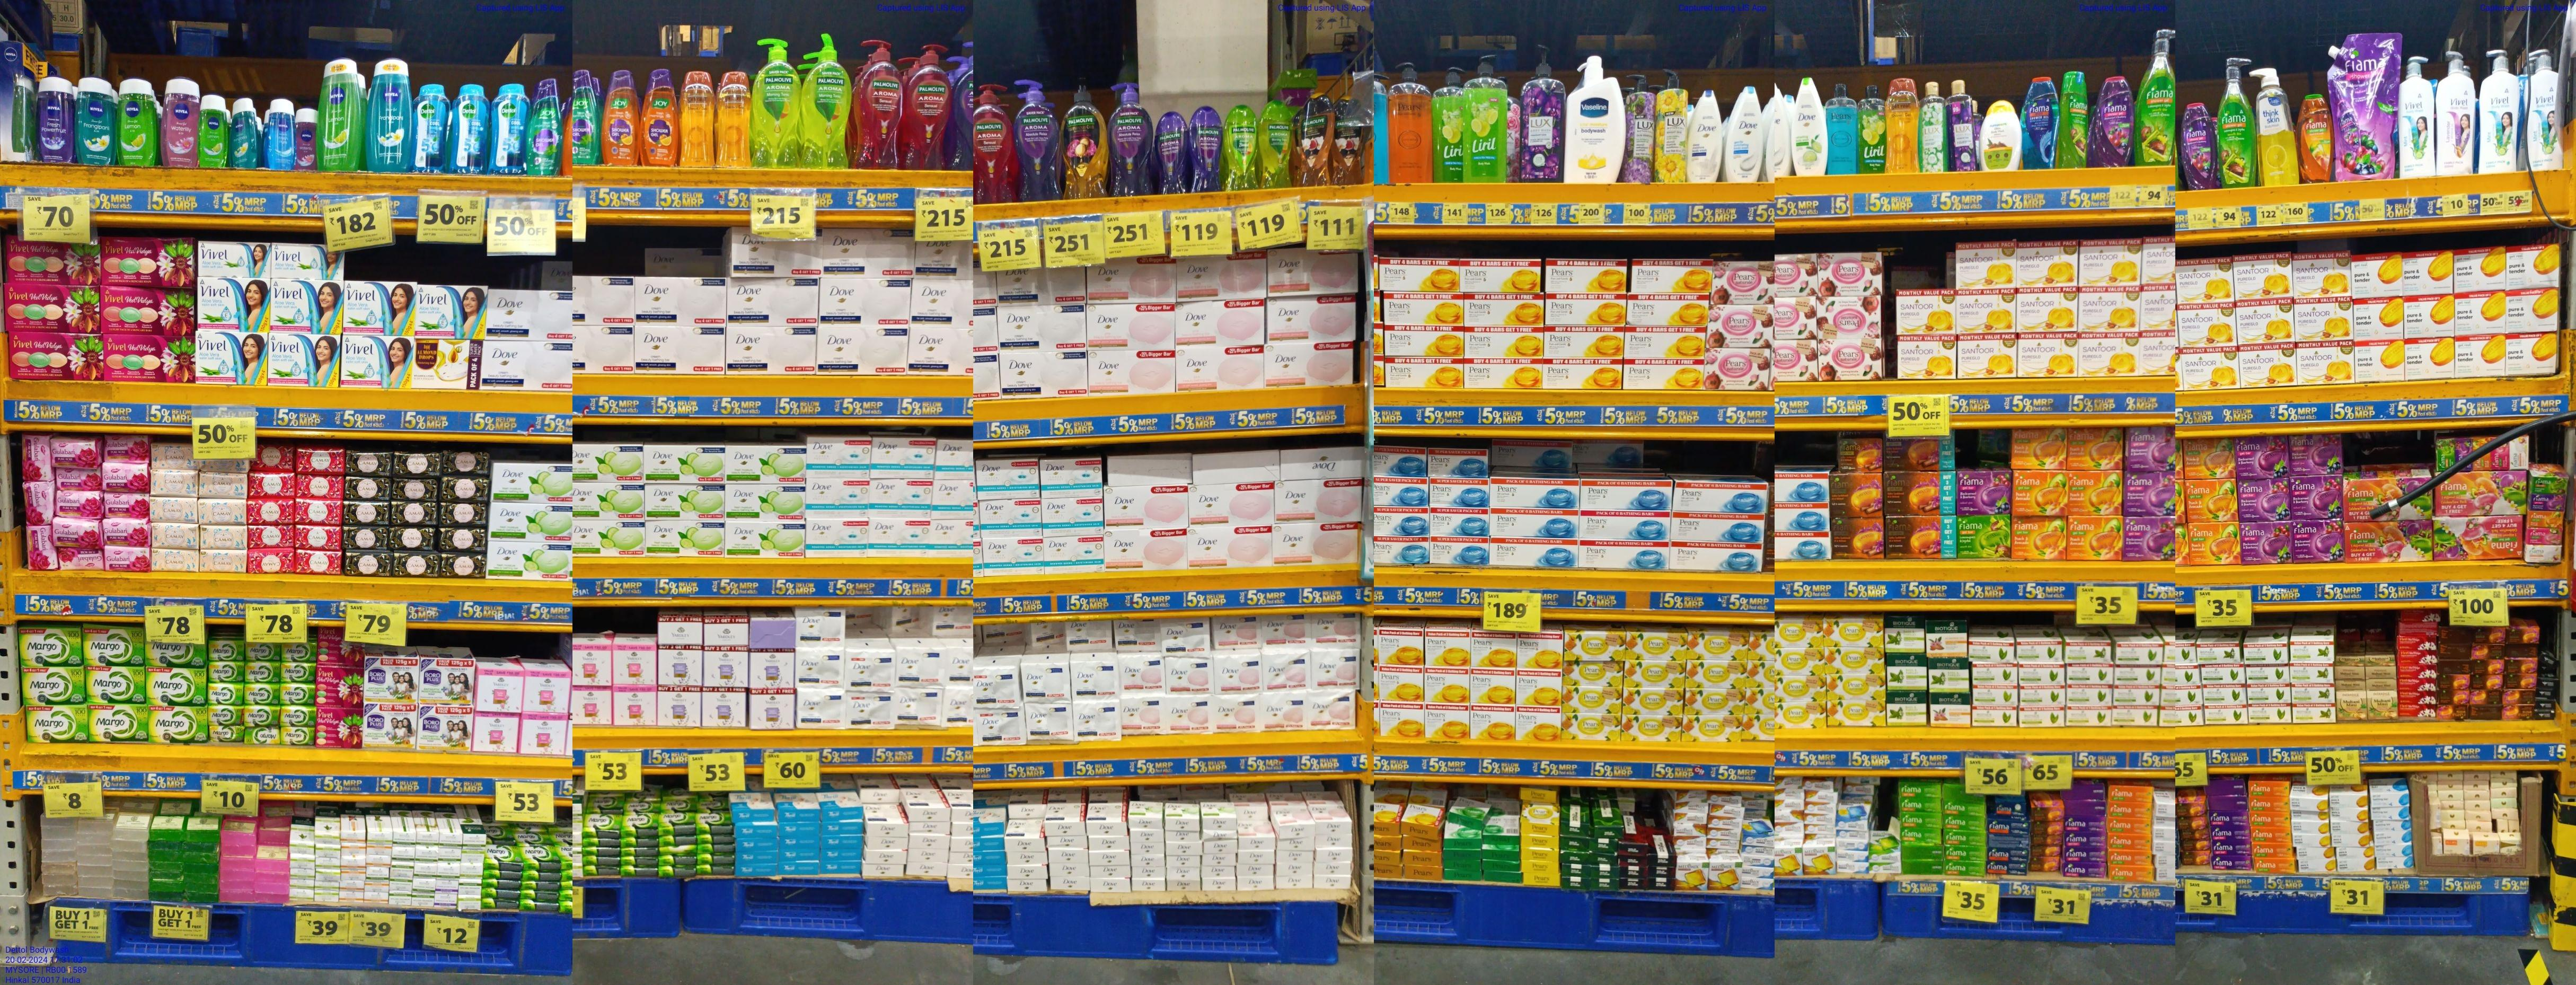Dettol_Bodywash_Cool: (452, 82, 486, 174), (490, 86, 524, 176), (417, 82, 448, 174)
Dove_Deep_Moisture_Body_Wash_250ML: (1689, 87, 1722, 184)
Dove_Gentle_Exfoliating_Body_Wash_250ML: (1725, 84, 1761, 184)
Dove_Refreshing_Body_Wash_250ML: (1792, 79, 1825, 176)
Fiama_Shower_Gel_Lemongrass_and_Jojoba_250ML: (2062, 71, 2086, 169)
Fiama_Shower_Gel_Peach_and_Avocado_250ML: (2298, 92, 2331, 183)
Get_Real_Shower_Gel_Moisturising_Glycerin_300ML: (718, 71, 752, 168), (1888, 76, 1919, 174), (683, 67, 715, 164)
Joy_Shower_Gel_Mandarin_and_Lemongrass_250ML: (641, 66, 678, 166), (603, 72, 639, 166)
Joy_Shower_Gel_Mint_and_Eucalyptus_250ML: (527, 79, 562, 176), (573, 71, 600, 164)
Liril_Lime_and_Tea_Tree_Oil_Body_Wash_250ML: (1860, 87, 1886, 173)
Lux_Black_Orchid_Scent_and_Juniper_Oil_Body_Wash_245ML: (1950, 79, 1976, 173)
Lux_Body_Wash_Skin_Detox_Freesia_Scent_and_Alove_Vera_245ML: (1920, 79, 1948, 173)
Nivea_Shower_Gel_Frangipani_and_Oil_250ML: (366, 61, 414, 173), (77, 77, 117, 164)
Nivea_Shower_Gel_Fresh_Powerfruit_250ML: (36, 81, 76, 164)
Nivea_Shower_Gel_Lemon_and_Oil_250ML: (319, 59, 360, 171), (118, 77, 158, 168)
Nivea_Shower_Gel_Waterlily_and_Oil_250ML: (163, 81, 199, 168)
Palmolive_Aroma_Morning_Tonic_Shower_Gel_250ML: (1257, 102, 1295, 187)
Palmolive_Aroma_Relax_250ML: (1189, 107, 1222, 191), (1157, 110, 1188, 194)
Palmolive_Luminous_Oils_With_White_Orchid_Shower_Gel_250ML: (1299, 94, 1334, 184), (1337, 120, 1364, 184)
Pears_Pure_Glycerin_and_Mint_Extracts_Body_Wash_250ML: (1828, 84, 1858, 174)
